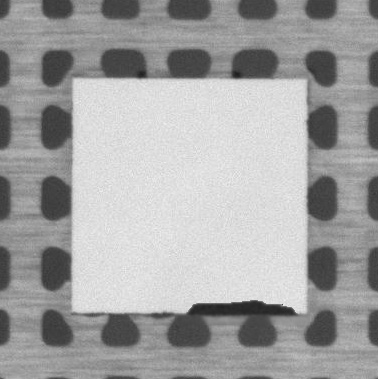DIE_BROKEN: (181, 298, 300, 317)
